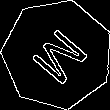M_SE: (23, 21, 92, 88)
